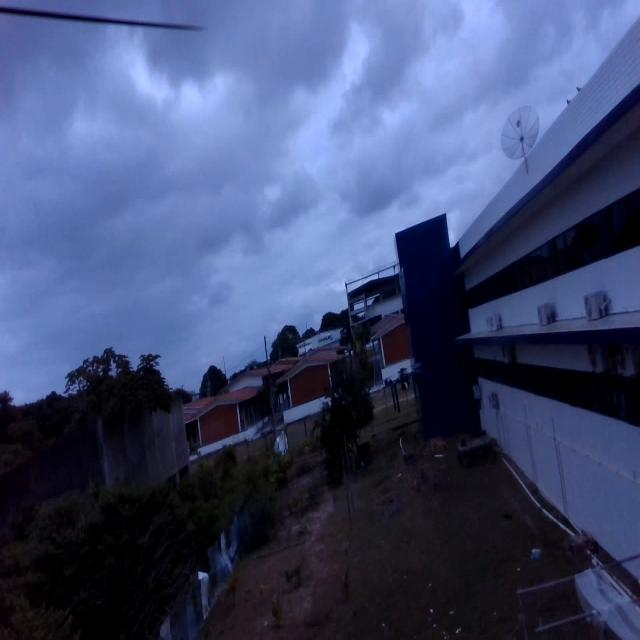-uav-: (372, 361, 448, 415)
